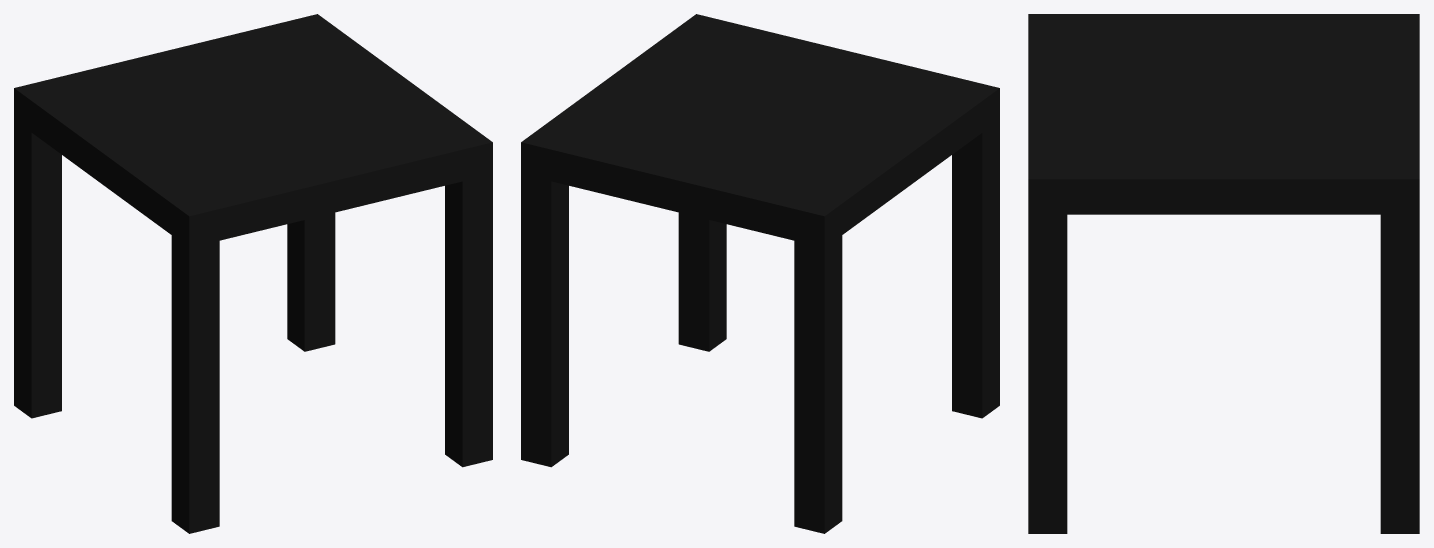
The model's file is 4er-tisch-verl-21-lab tisch.obj.
3 views of the same model, side by side, from view 1: azimuth 30°, elevation 25°; view 2: azimuth 150°, elevation 25°; view 3: azimuth 270°, elevation 25° (orthographic). The views are drawn at different scales.
Visible parts, largest first — view 1: lab tisch; view 2: lab tisch; view 3: lab tisch.
Part boxes in pixels (x1,y1,x2,y2): lab tisch: [14, 14, 492, 533]; lab tisch: [521, 14, 999, 533]; lab tisch: [1028, 14, 1419, 533].
Size of the model in its own units: 1 by 1 by 1.
Materials: 1 (1 with a texture image).
